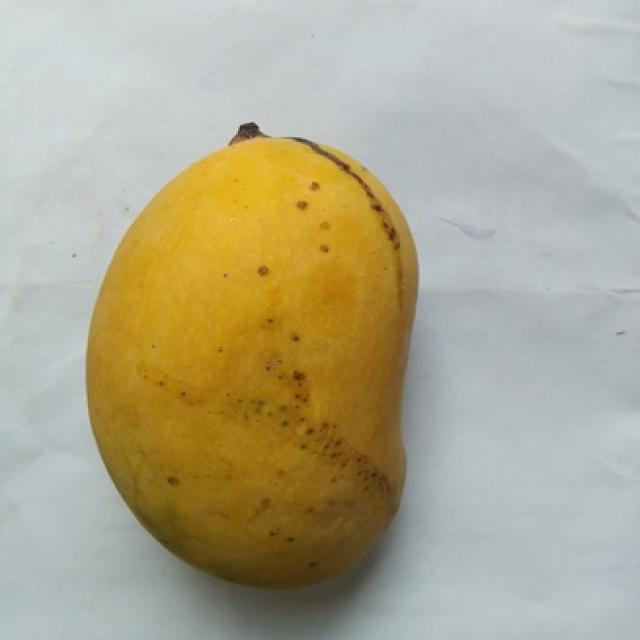Mango: (86, 132, 416, 584)
